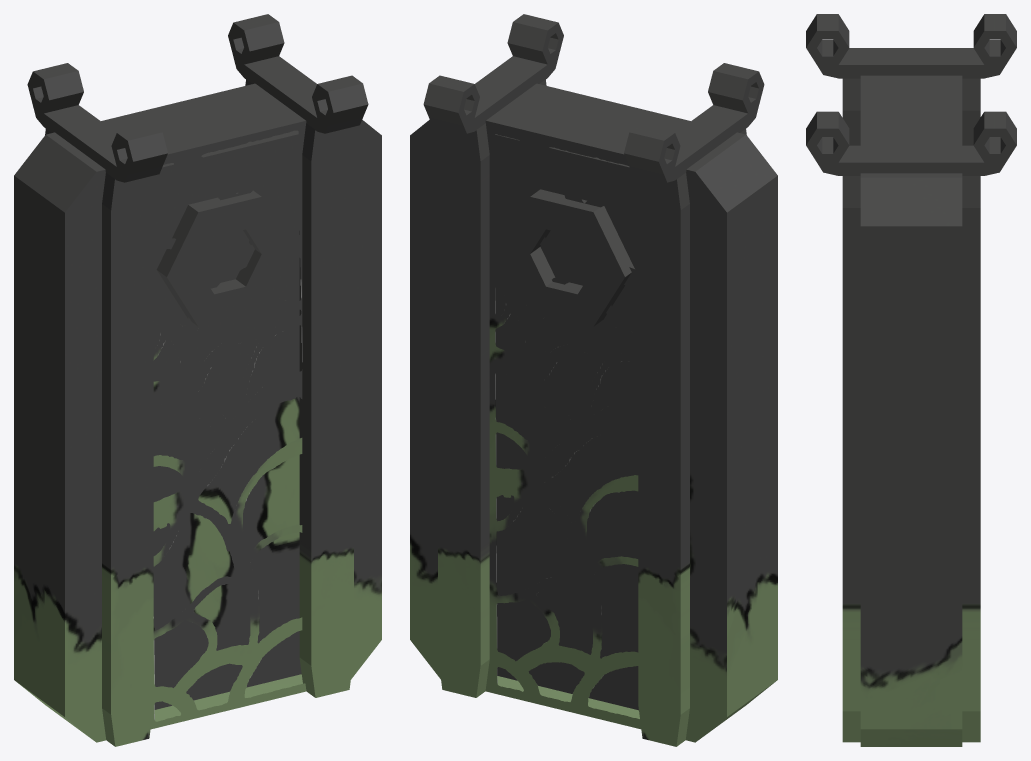
File: AncientDoor.fbx
3 renders of one model, left to right at view 1: azimuth 30°, elevation 25°; view 2: azimuth 150°, elevation 25°; view 3: azimuth 270°, elevation 25°, orthographic.
Parts seen in each view (by area): view 1: Door, Light; view 2: Door, Light; view 3: Door.
Boxes of the visible parts, <box> form: Door: <box>14,14,381,746</box>; Light: <box>150,130,301,709</box>; Door: <box>410,14,777,746</box>; Light: <box>494,134,641,710</box>; Door: <box>806,14,1016,746</box>.
Size of the model in its own units: 2.47 by 4.59 by 1.43.
1 material, 1 textured.
